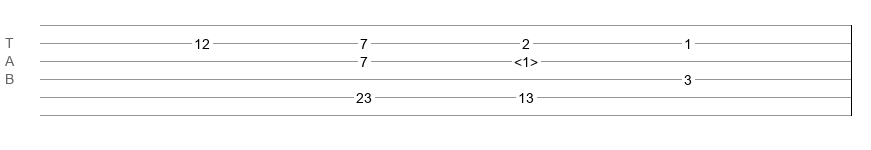1: (684, 36, 692, 46)
12: (194, 36, 210, 46)
13: (518, 90, 534, 100)
2: (522, 36, 530, 46)
23: (356, 90, 372, 100)
3: (684, 72, 692, 82)
7: (360, 36, 368, 46), (360, 54, 368, 64)
harmonic: (514, 54, 538, 64)
